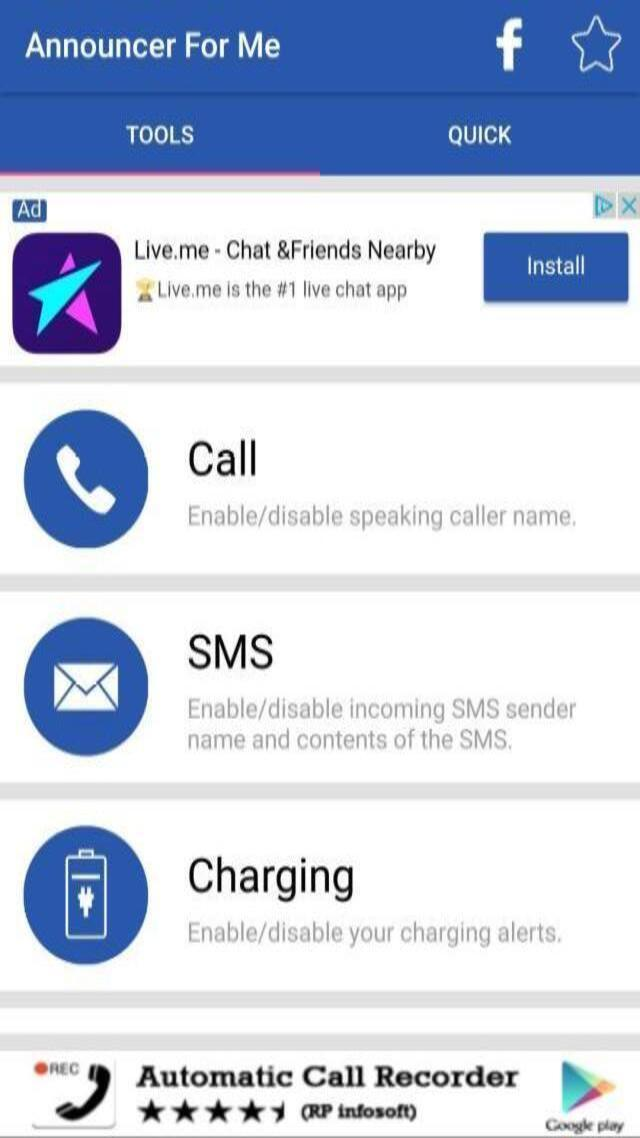Icon: (19, 616, 154, 758), (20, 407, 153, 550), (19, 821, 150, 963), (12, 230, 120, 359), (539, 1054, 629, 1136), (29, 1059, 118, 1133), (564, 12, 632, 80)
Image: (488, 9, 538, 77)
Text: (130, 1056, 526, 1094), (184, 918, 566, 954), (12, 24, 294, 70), (183, 692, 581, 723), (130, 232, 444, 270), (183, 501, 581, 530), (184, 854, 360, 906), (187, 727, 517, 754), (156, 278, 414, 304), (184, 628, 281, 682), (188, 432, 260, 488)
TextButton: (479, 228, 634, 310), (114, 119, 208, 153), (432, 121, 521, 154), (10, 198, 47, 228)
